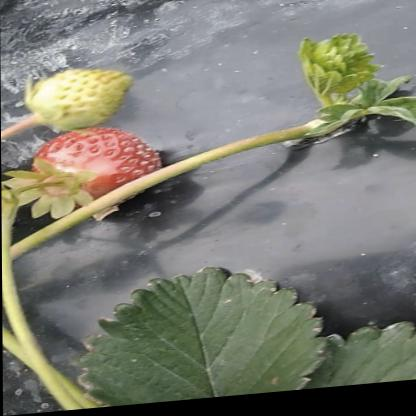ripe: (29, 125, 167, 206)
unripe: (26, 66, 135, 136)
